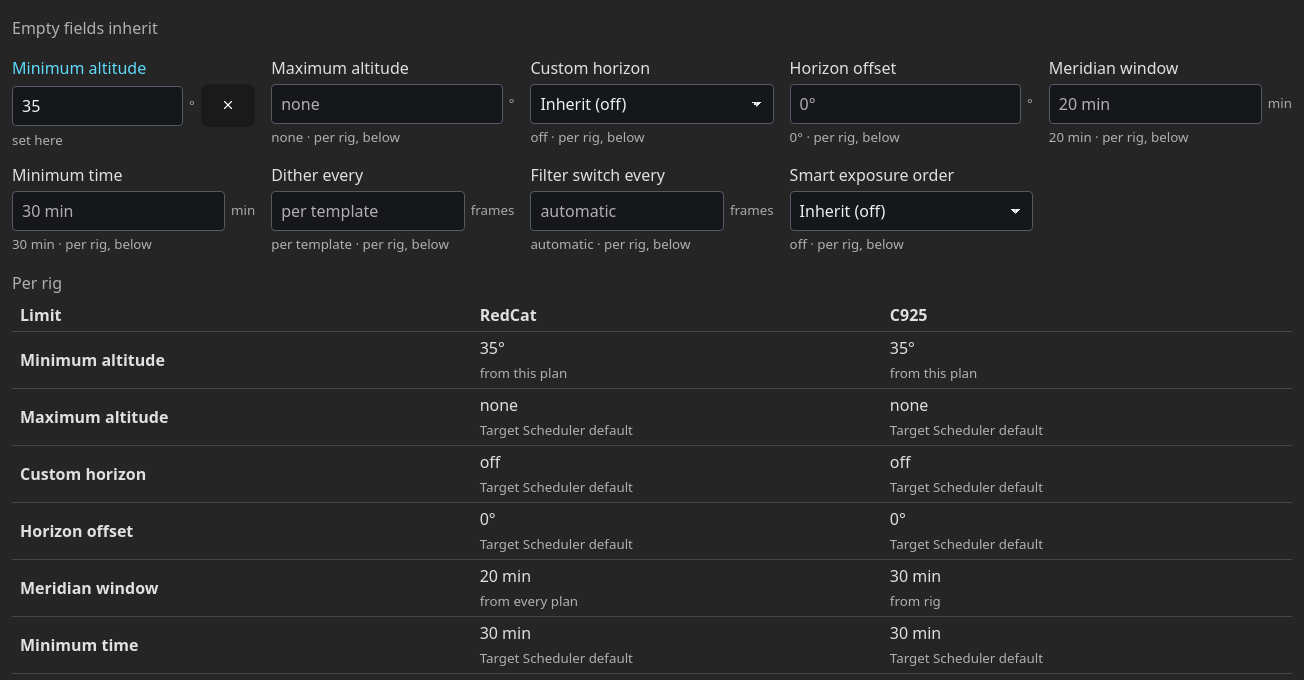
Test: plan scheduling limits › treats limits typed back to the saved ones as unedited
Replace the text in the number field labelled "Minimum altitude" with "50" at (98, 106), box left=12, top=86, right=183, bottom=126
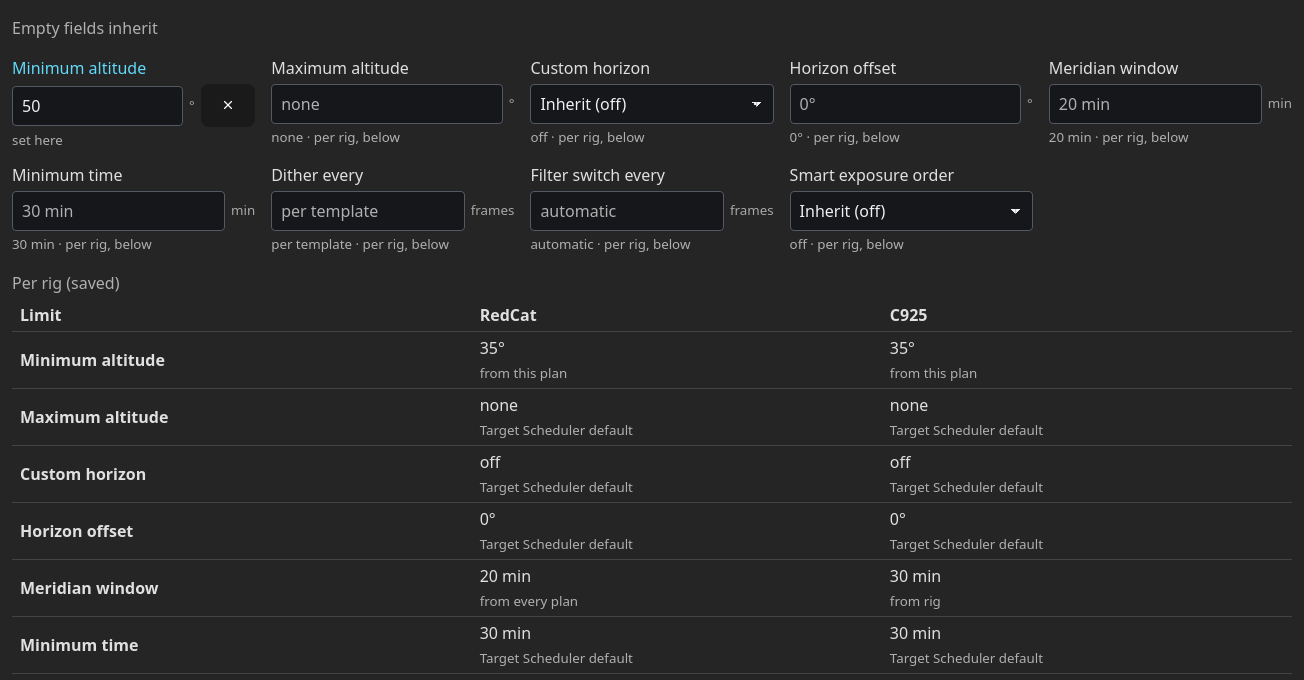
Replace the text in the number field labelled "Minimum altitude" with "35" at (98, 106), box left=12, top=86, right=183, bottom=126
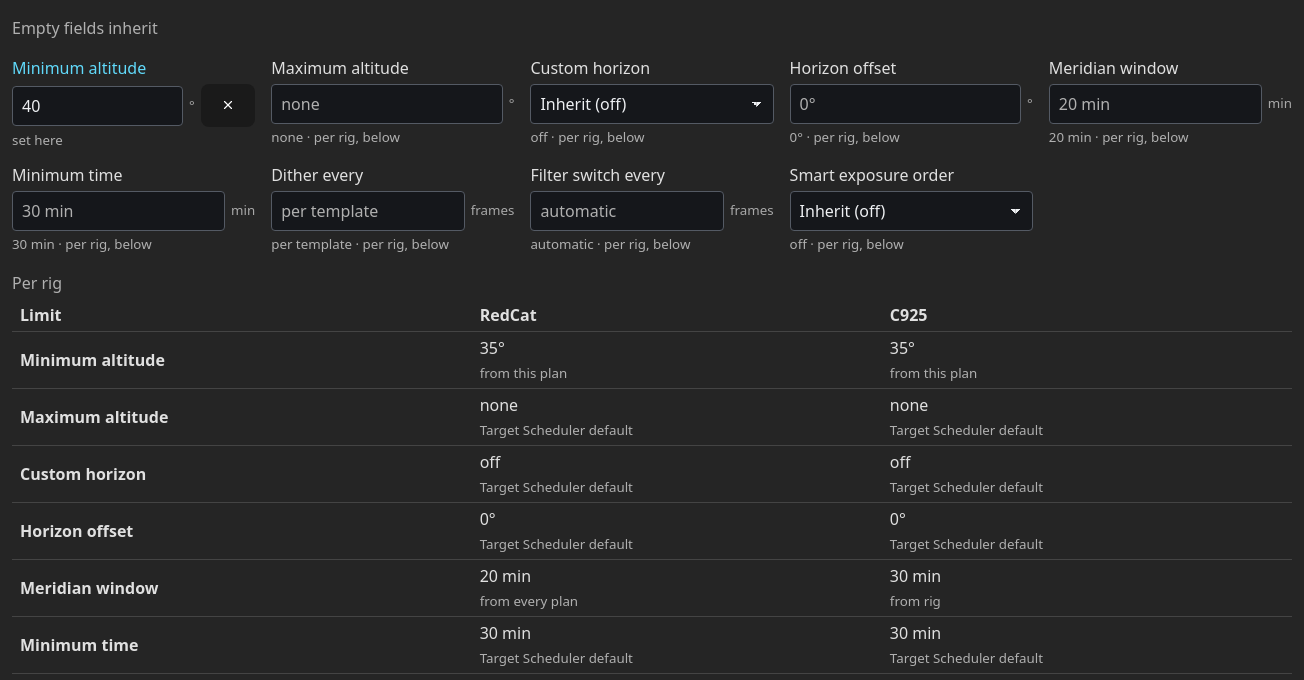
Now the number field labelled "Minimum altitude" holds "40", box left=12, top=86, right=183, bottom=126
